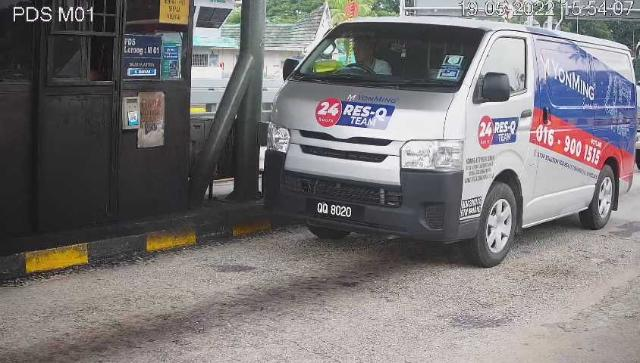License_Plate: (306, 198, 368, 227)
van: (265, 19, 638, 270)
